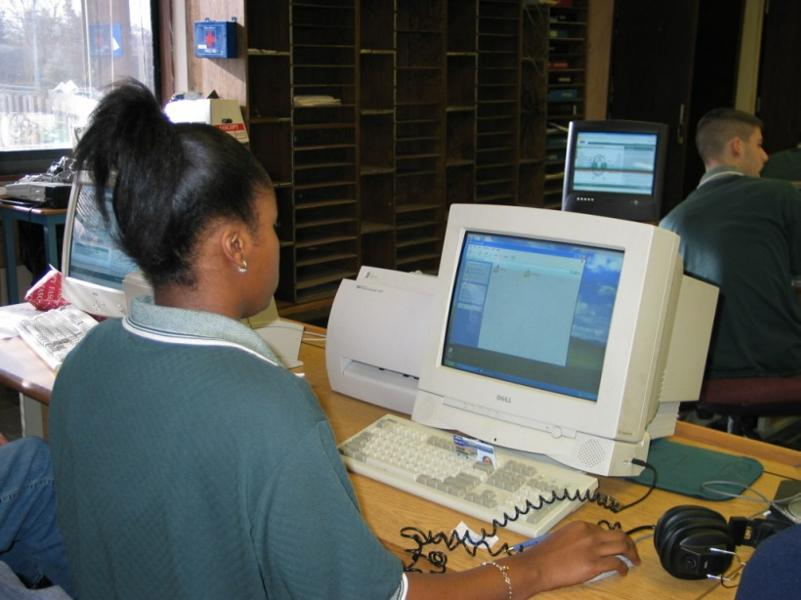person: (48, 80, 643, 600)
